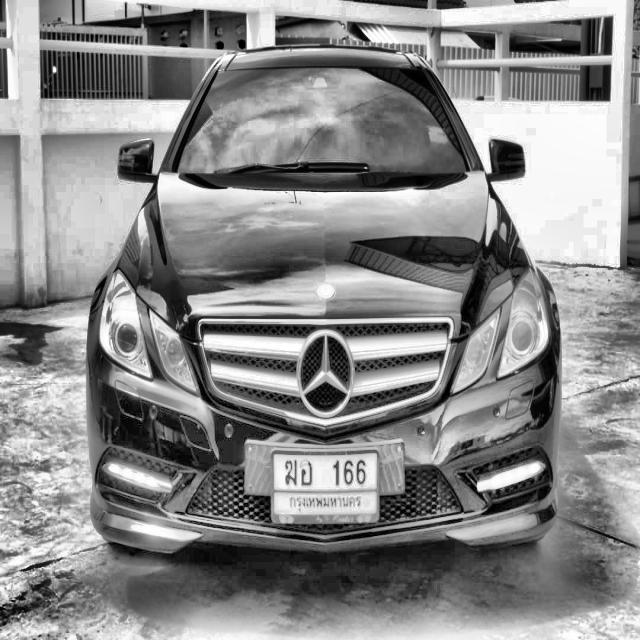license-plate: (270, 440, 386, 528)
